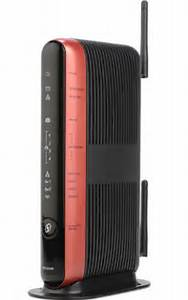Verizon Router: (24, 2, 167, 300)
